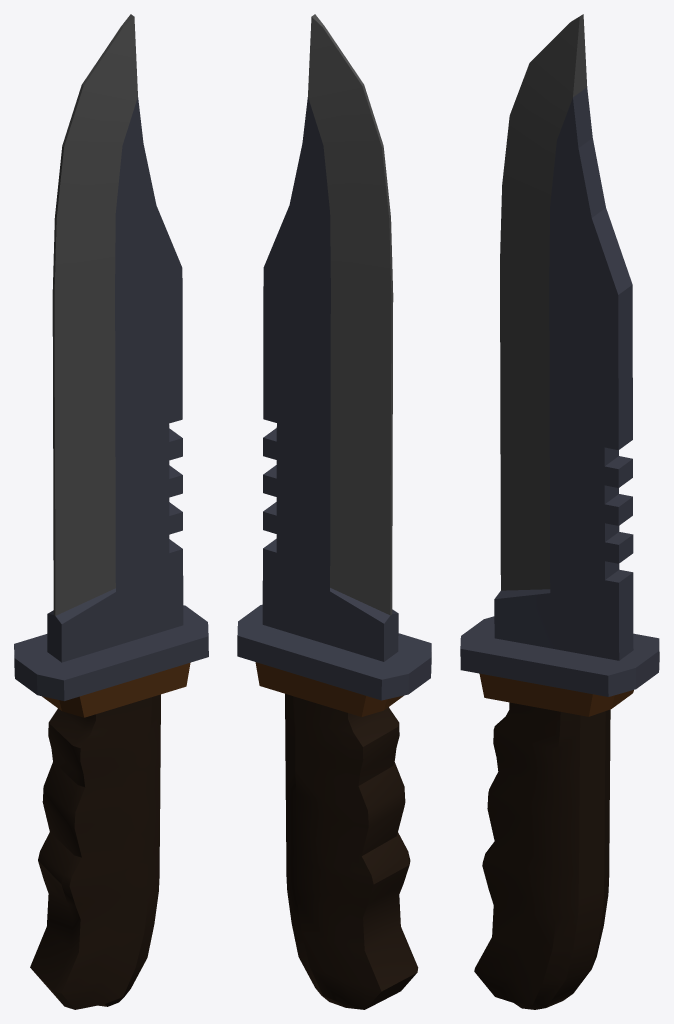
File: Knife_1.obj
3 renders of one model, left to right at view 1: azimuth 30°, elevation 25°; view 2: azimuth 150°, elevation 25°; view 3: azimuth 330°, elevation 25°, orthographic. The views are drawn at different scales.
Parts seen in each view (by area): view 1: Knife_1_Cube.300; view 2: Knife_1_Cube.300; view 3: Knife_1_Cube.300.
Boxes of the visible parts, x1=… form: Knife_1_Cube.300: x1=14, y1=14, x2=208, y2=1009; Knife_1_Cube.300: x1=237, y1=14, x2=431, y2=1009; Knife_1_Cube.300: x1=460, y1=14, x2=659, y2=1009.
Size of the model in its own units: 0.2596 by 1.41 by 0.131.
